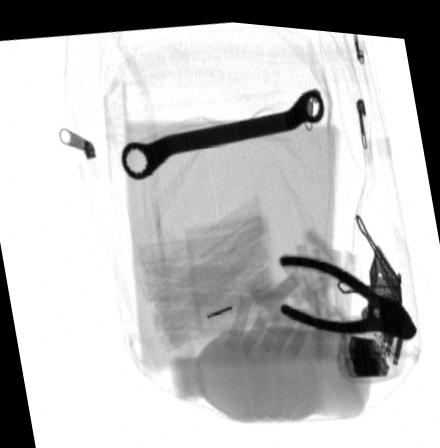Pliers: (278, 248, 419, 330)
Wrench: (120, 79, 324, 177)
